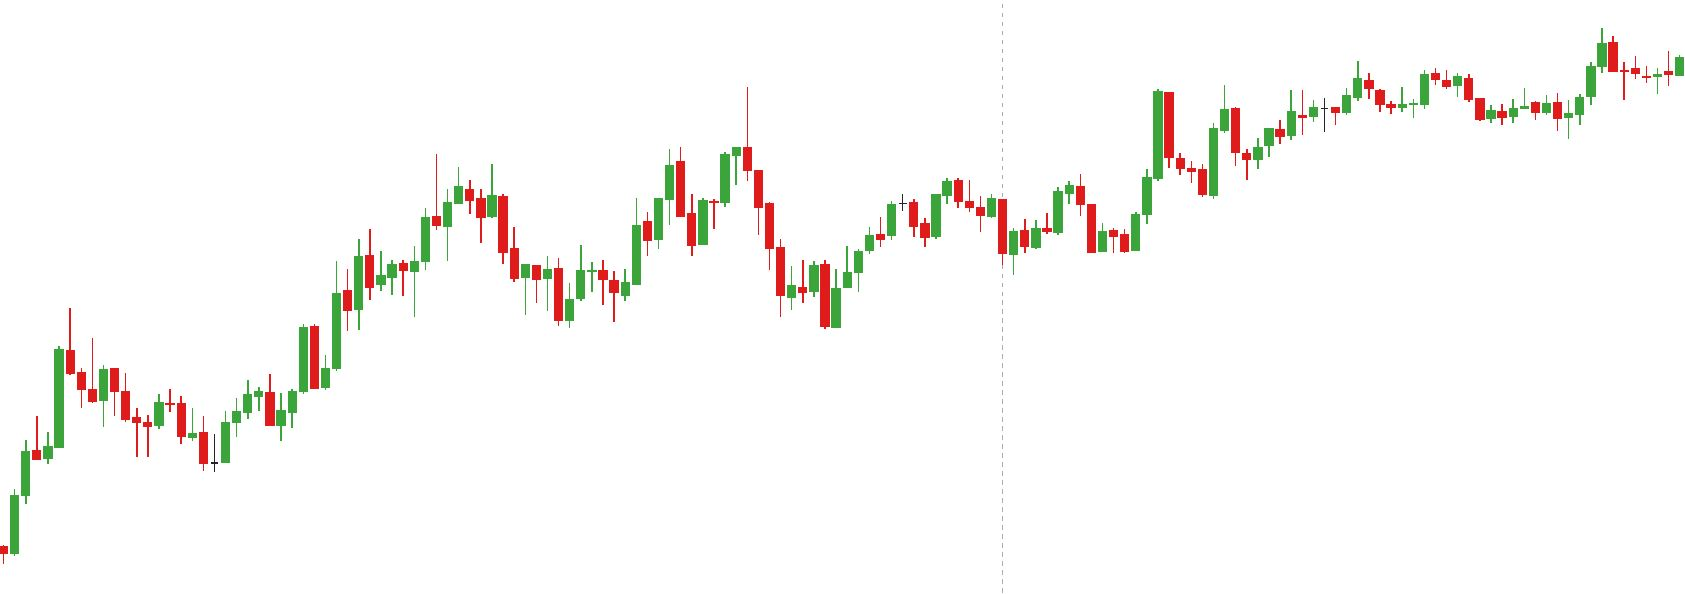buy: (130, 408, 232, 468)
sell: (664, 82, 753, 221)
